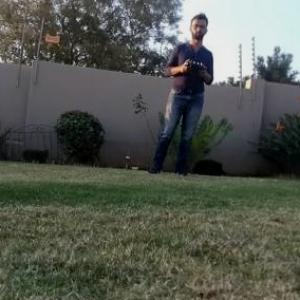follow: (140, 6, 216, 181)
